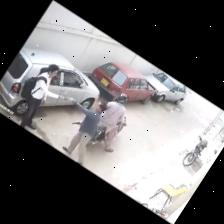person: (20, 65, 66, 129), (62, 101, 106, 165), (101, 94, 127, 152)
